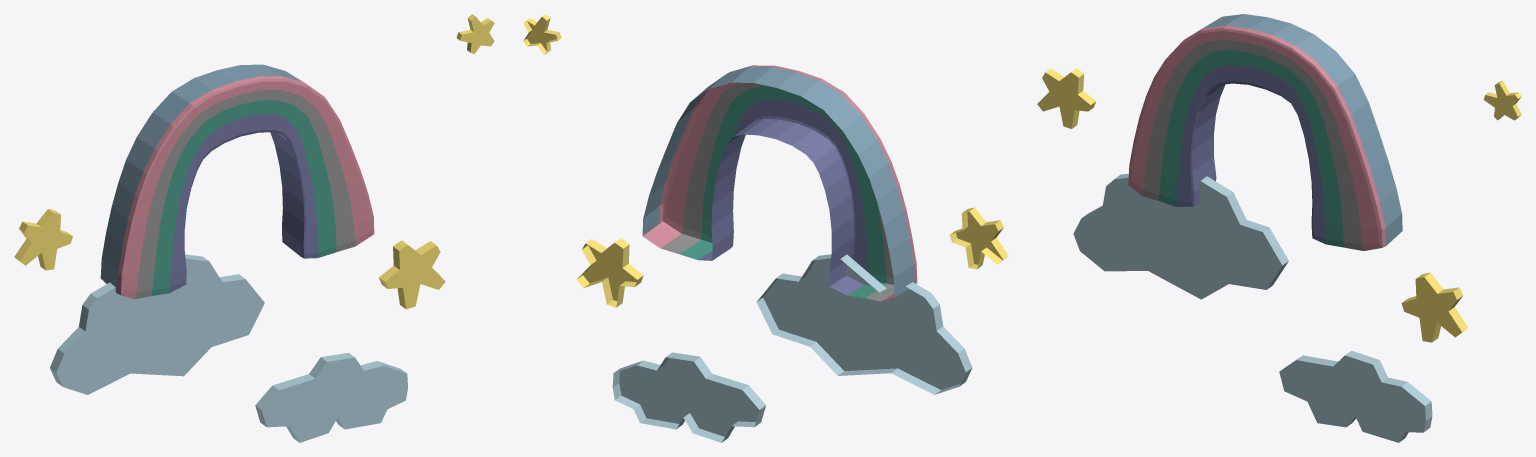
Rendered from Rainbow_and_stars.fbx.
The picture shows the model from 3 angles, left to right: view 1: azimuth 30°, elevation 25°; view 2: azimuth 150°, elevation 25°; view 3: azimuth 330°, elevation 25°; orthographic projection.
Visible parts, largest first — view 1: Rainbow_and_stars; view 2: Rainbow_and_stars; view 3: Rainbow_and_stars.
Boxes of the visible parts, left/top/right/bottom form: Rainbow_and_stars: left=14, top=14, right=494, bottom=442; Rainbow_and_stars: left=523, top=14, right=1008, bottom=442; Rainbow_and_stars: left=1037, top=14, right=1521, bottom=442.
Bounding box in the file's own units: 177 × 14.14 × 135.
